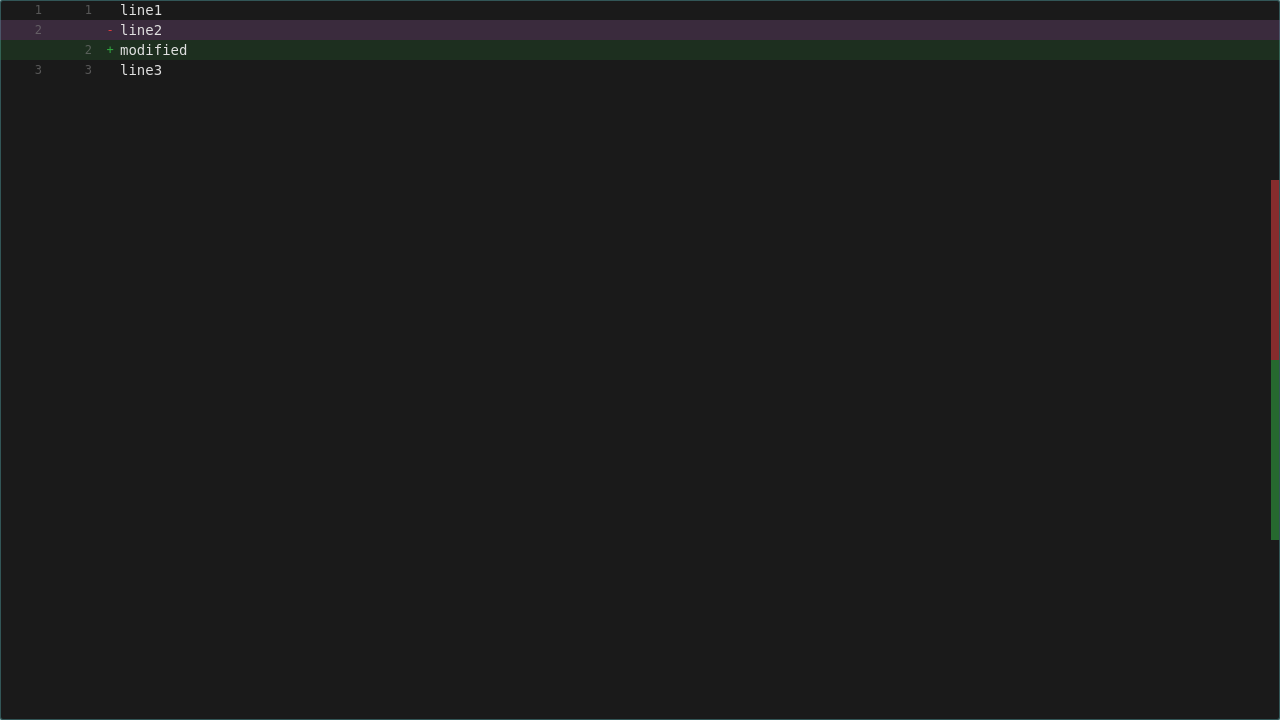
Test case: ShikiDiffViewer › file search (Cmd+F) › shows 0 when no matches found
Press f in the element showing "1 1 line1 2 - line2 2 + modified 3 3 line3"
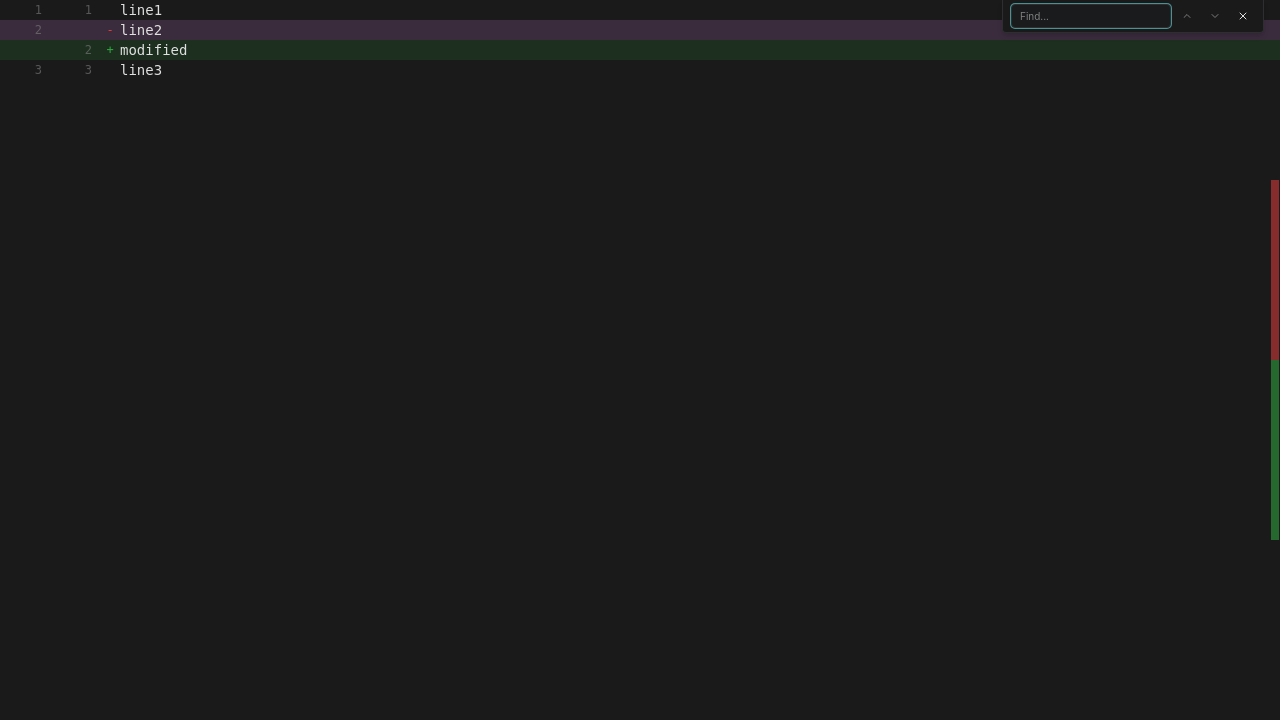
Type "zzzznotfound" into the field with test id "diff-search-input" at x=1091, y=16, box top-left (1011, 4), bottom-right (1171, 28)
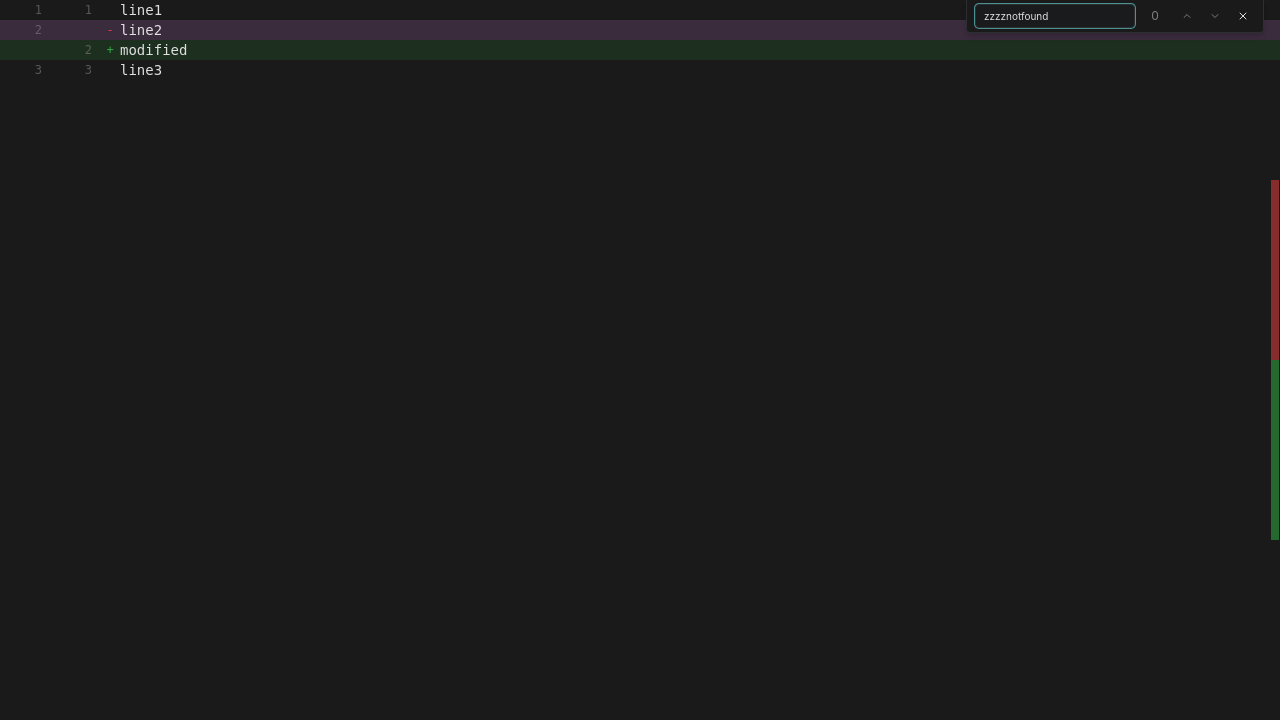
Expected: the text with test id "diff-search-count" reads "0", top-left (1151, 8), bottom-right (1159, 23)
